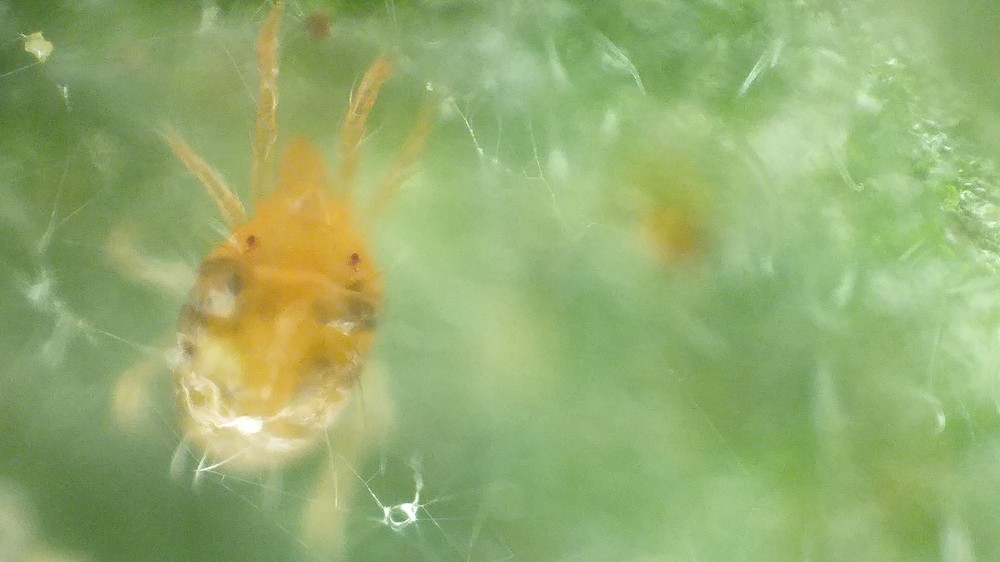Aracnido Rojo: (115, 35, 452, 529)
